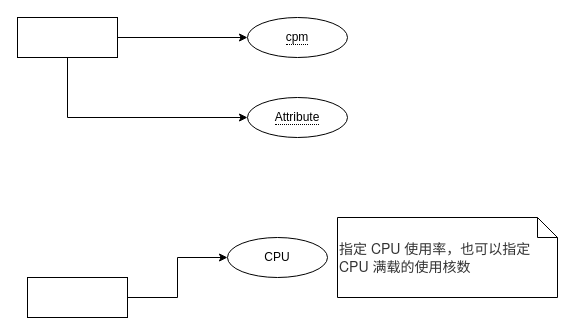
Image size: 575x335. Some labels were removed from this diagram. The box of each missing label's shape, as (x1, y1, x2, y2) in pixels:
度量指标: (16, 16, 118, 58)
演练场景: (26, 276, 128, 318)
